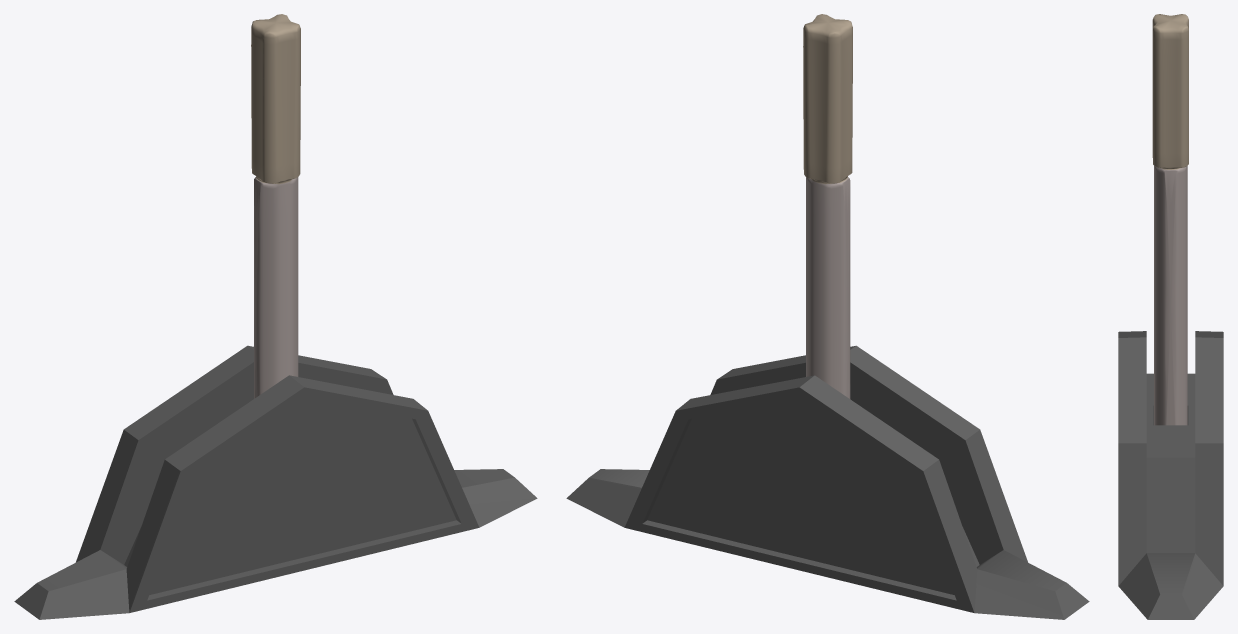
The model's file is Lever1_Blocky.fbx.
3 renders of one model, left to right at view 1: azimuth 30°, elevation 25°; view 2: azimuth 150°, elevation 25°; view 3: azimuth 270°, elevation 25°, orthographic. The views are drawn at different scales.
Visible parts, largest first — view 1: pCylinder1, pCube4; view 2: pCylinder1, pCube4; view 3: pCylinder1, pCube4.
Boxes of the visible parts, box(x1,y1,x2,y2) form: pCylinder1: box(14, 345, 537, 619); pCube4: box(251, 14, 300, 398); pCylinder1: box(566, 345, 1089, 619); pCube4: box(803, 14, 852, 398); pCylinder1: box(1118, 331, 1223, 619); pCube4: box(1152, 14, 1188, 425).
Size of the model in its own units: 0.818 by 0.827 by 0.162.
